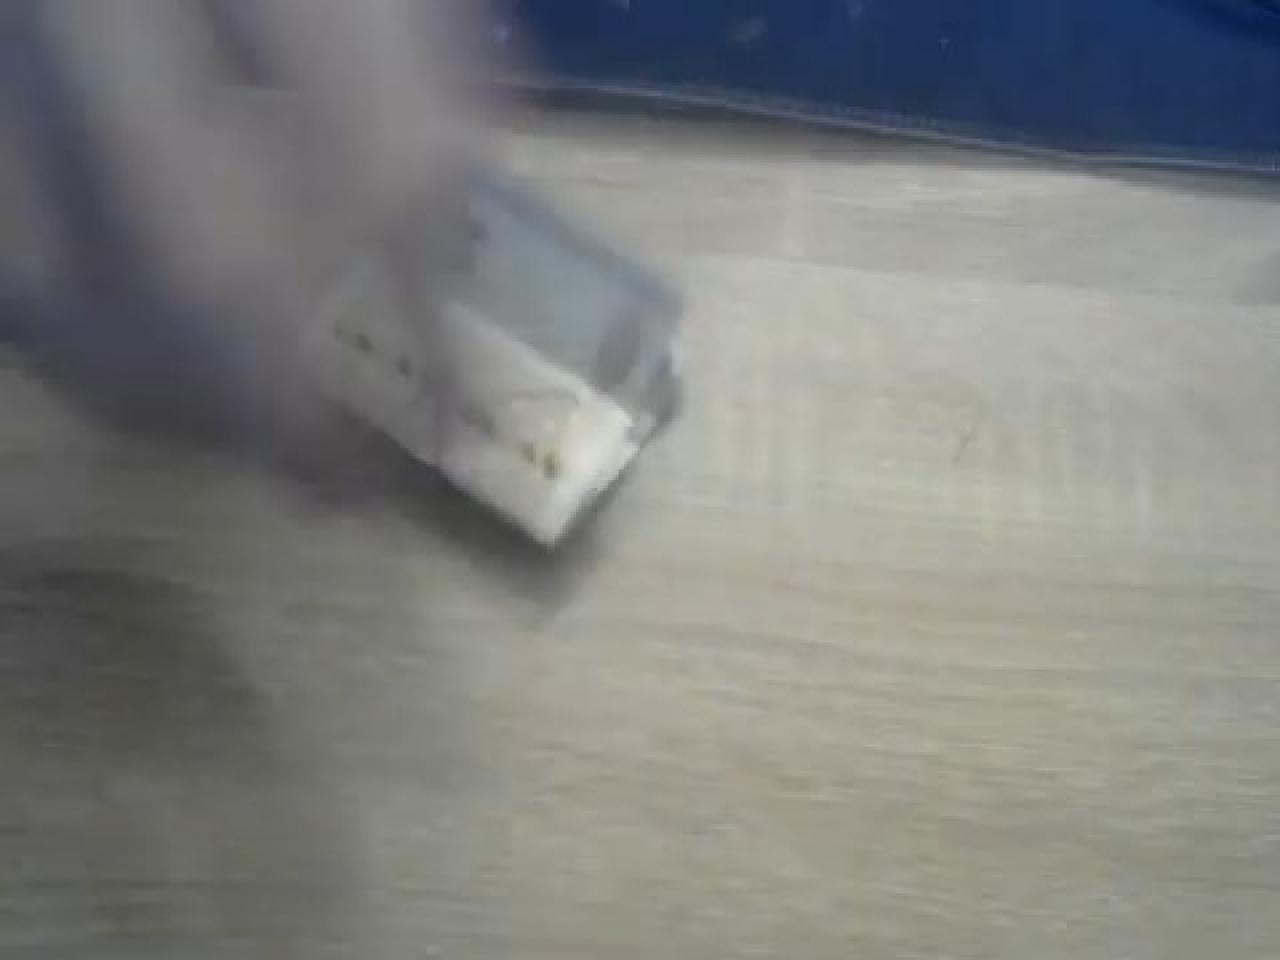10leva: (272, 83, 682, 550)
